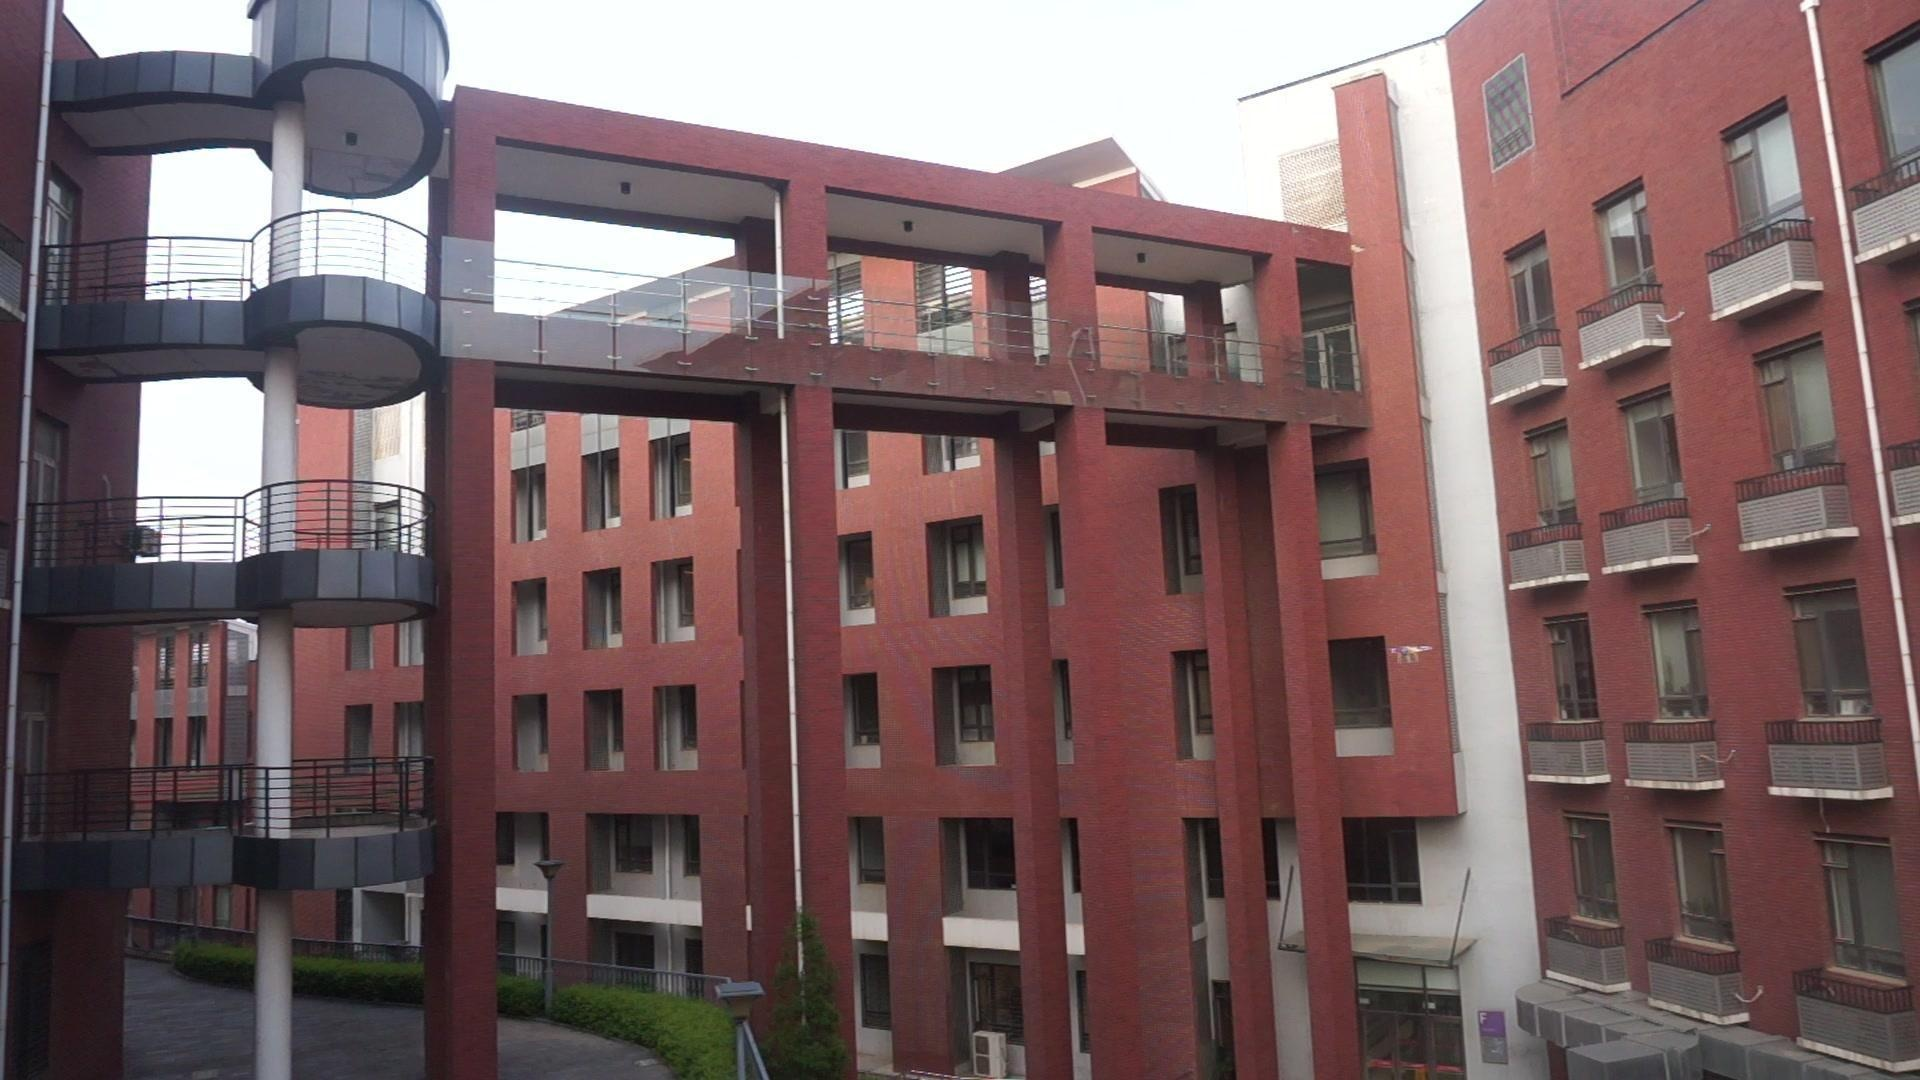UAV: (1385, 646, 1433, 665)
